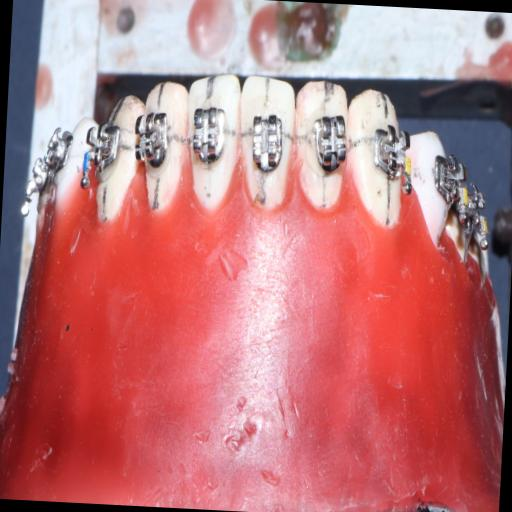incorrect_brace: (244, 111, 288, 179)
